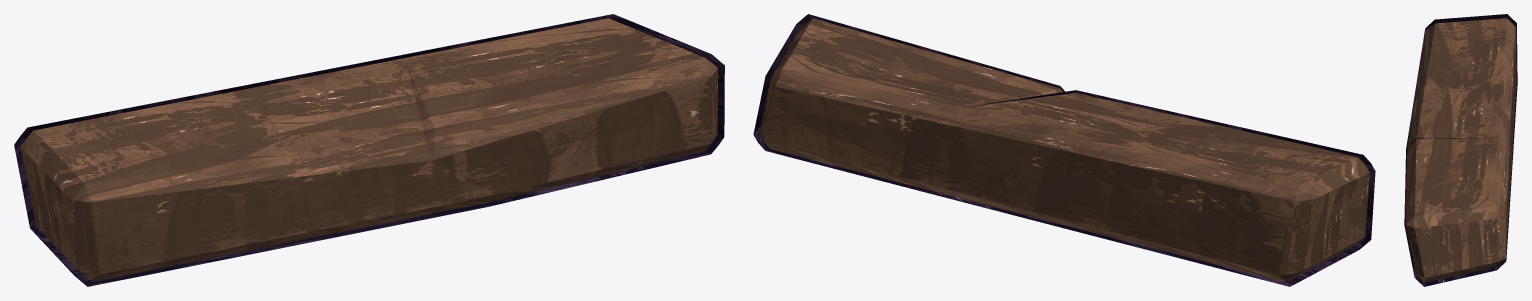
File: polygonalmind-momuspark-002.glb
3 views of the same model, side by side, from view 1: azimuth 30°, elevation 25°; view 2: azimuth 150°, elevation 25°; view 3: azimuth 270°, elevation 25° (orthographic). The views are drawn at different scales.
Parts seen in each view (by area): view 1: Brick_Step_01_Art; view 2: Brick_Step_01_Art; view 3: Brick_Step_01_Art.
Boxes of the visible parts, x1=… form: Brick_Step_01_Art: x1=14, y1=14, x2=724, y2=286; Brick_Step_01_Art: x1=753, y1=14, x2=1375, y2=286; Brick_Step_01_Art: x1=1404, y1=14, x2=1517, y2=286.
Size of what is drawn, in the model's own units: 5.82 by 1.11 by 1.39.
2 materials, 2 textured.
